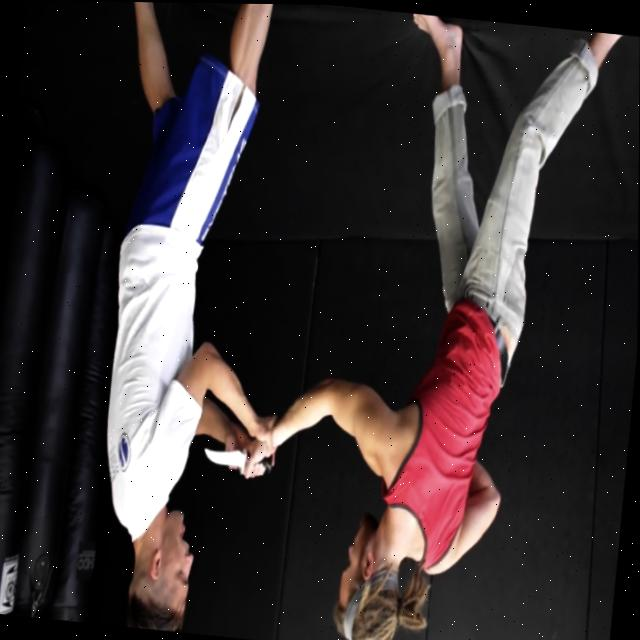knife: (203, 442, 250, 474)
